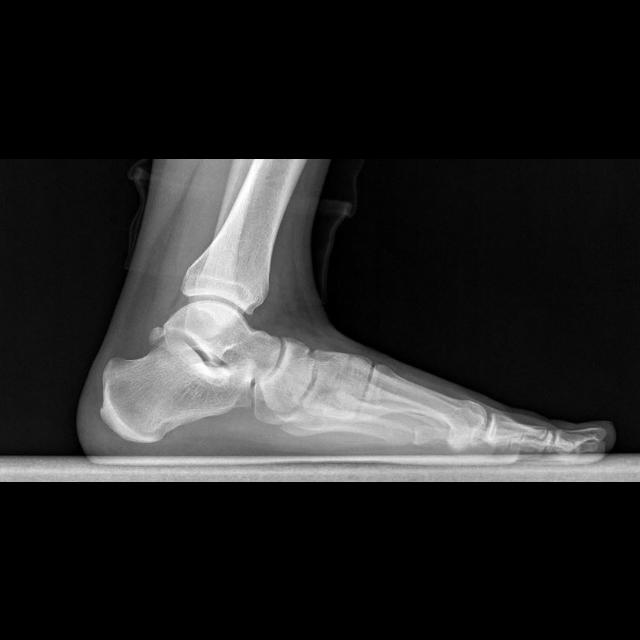a: (98, 334, 256, 445)
b: (260, 337, 315, 414)
c: (361, 360, 490, 434)
